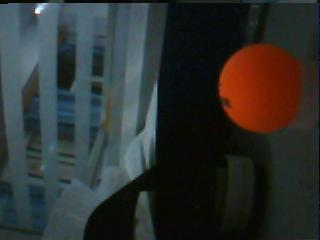oball: (218, 44, 300, 134)
